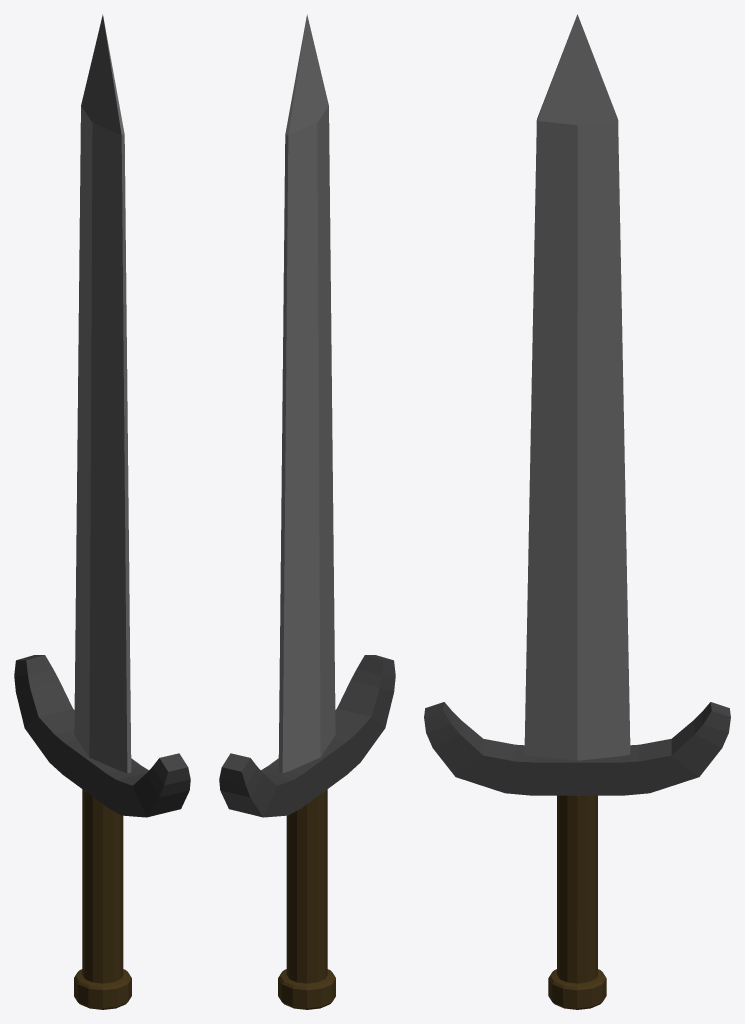
File: Sword.fbx
The picture shows the model from 3 angles, left to right: view 1: azimuth 30°, elevation 25°; view 2: azimuth 150°, elevation 25°; view 3: azimuth 270°, elevation 25°; orthographic projection.
Parts seen in each view (by area): view 1: Cube.001, Cube, Handle; view 2: Cube.001, Cube, Handle; view 3: Cube.001, Cube, Handle.
Part boxes in pixels (bbox=[...]): Cube.001: bbox=[74, 14, 131, 773]; Cube: bbox=[14, 655, 190, 817]; Handle: bbox=[74, 789, 131, 1009]; Cube.001: bbox=[278, 14, 335, 773]; Cube: bbox=[219, 655, 395, 817]; Handle: bbox=[278, 789, 335, 1009]; Cube.001: bbox=[524, 14, 630, 760]; Cube: bbox=[424, 702, 730, 795]; Handle: bbox=[548, 795, 606, 1009].
Size of the model in its own units: 74.68 by 1400 by 395.
